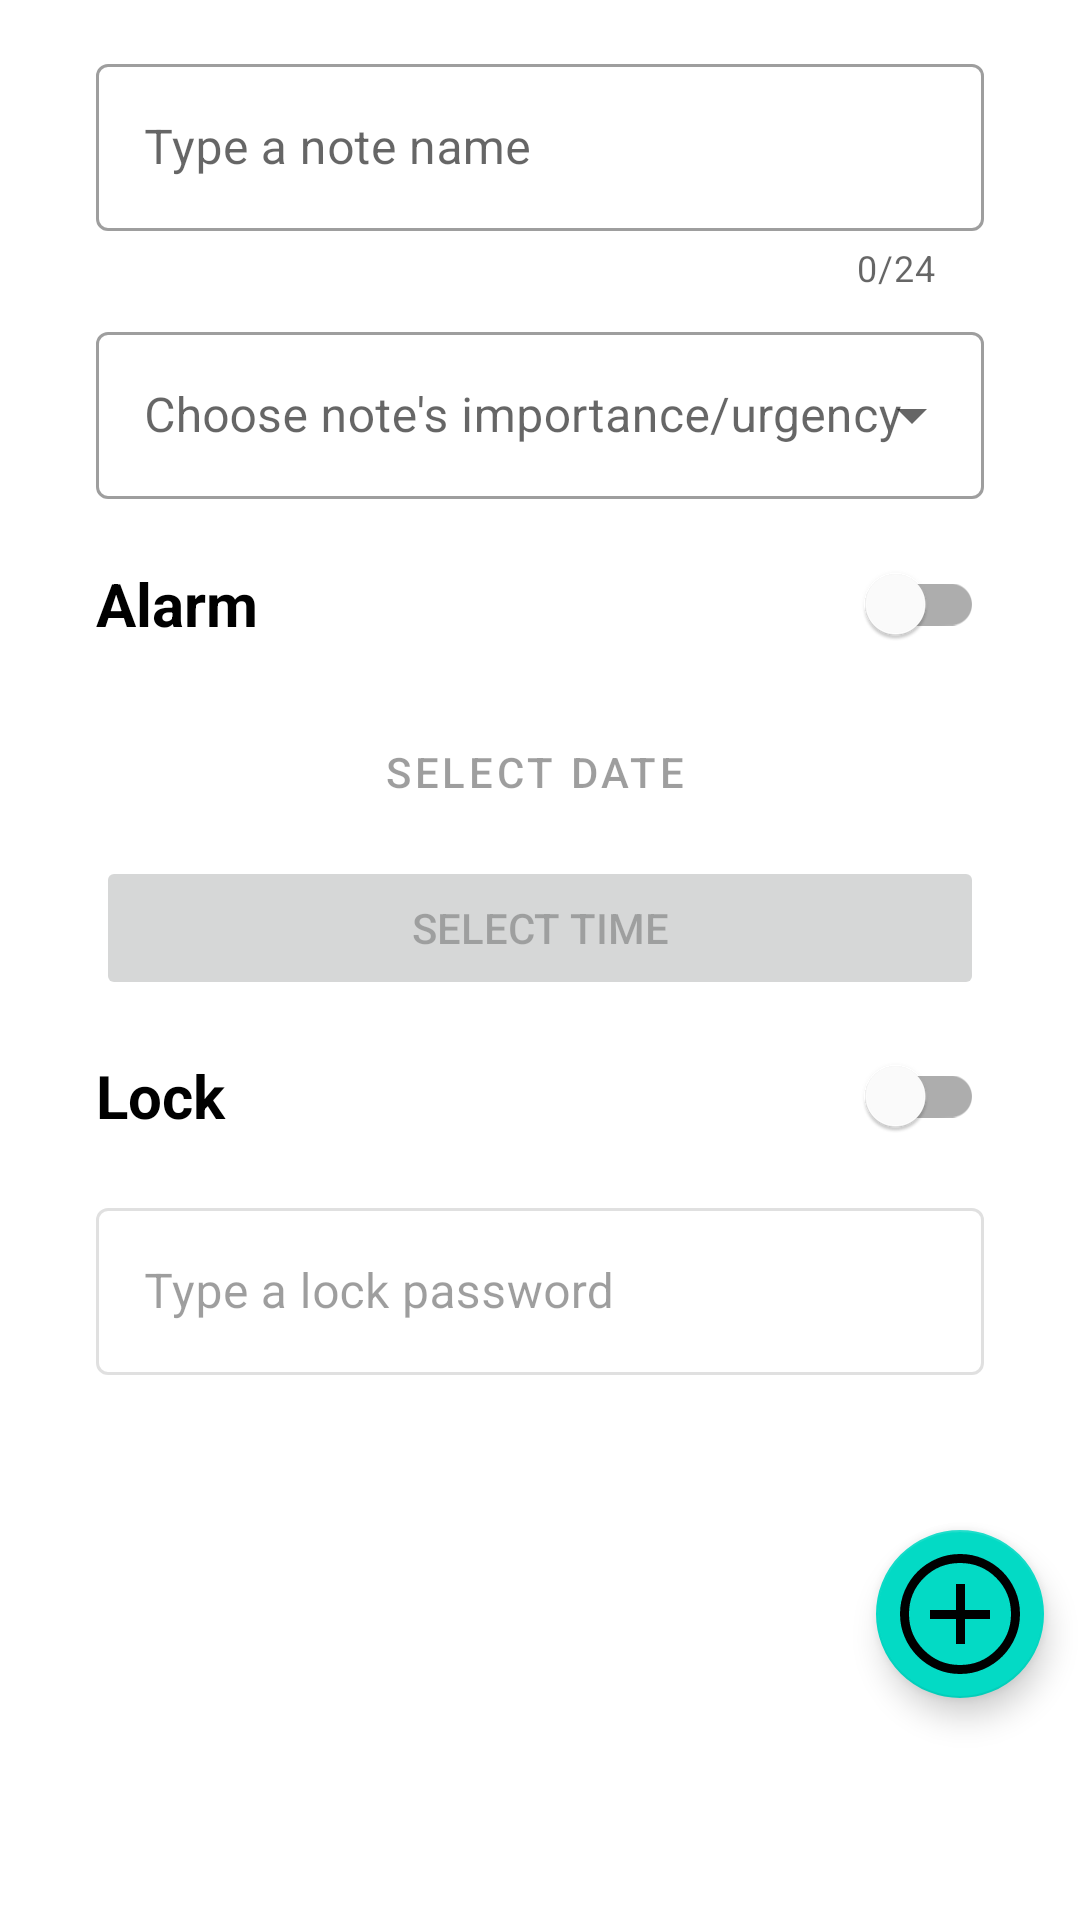

Locate icon controls on the screen. Image size 1080x1920, boxes as (x1, y1, x2, y2).
Note Add Button: (876, 1530, 1044, 1698)
